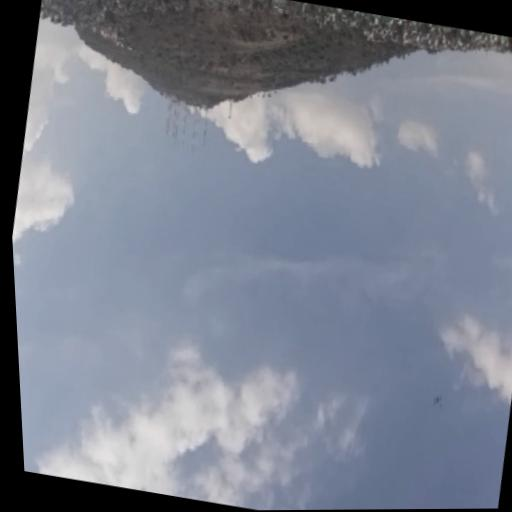drones: (427, 390, 445, 410)
